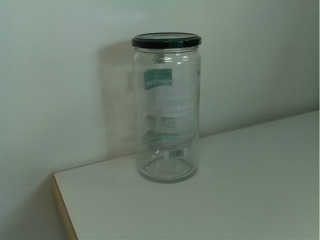pote cristal: (130, 31, 205, 186)
